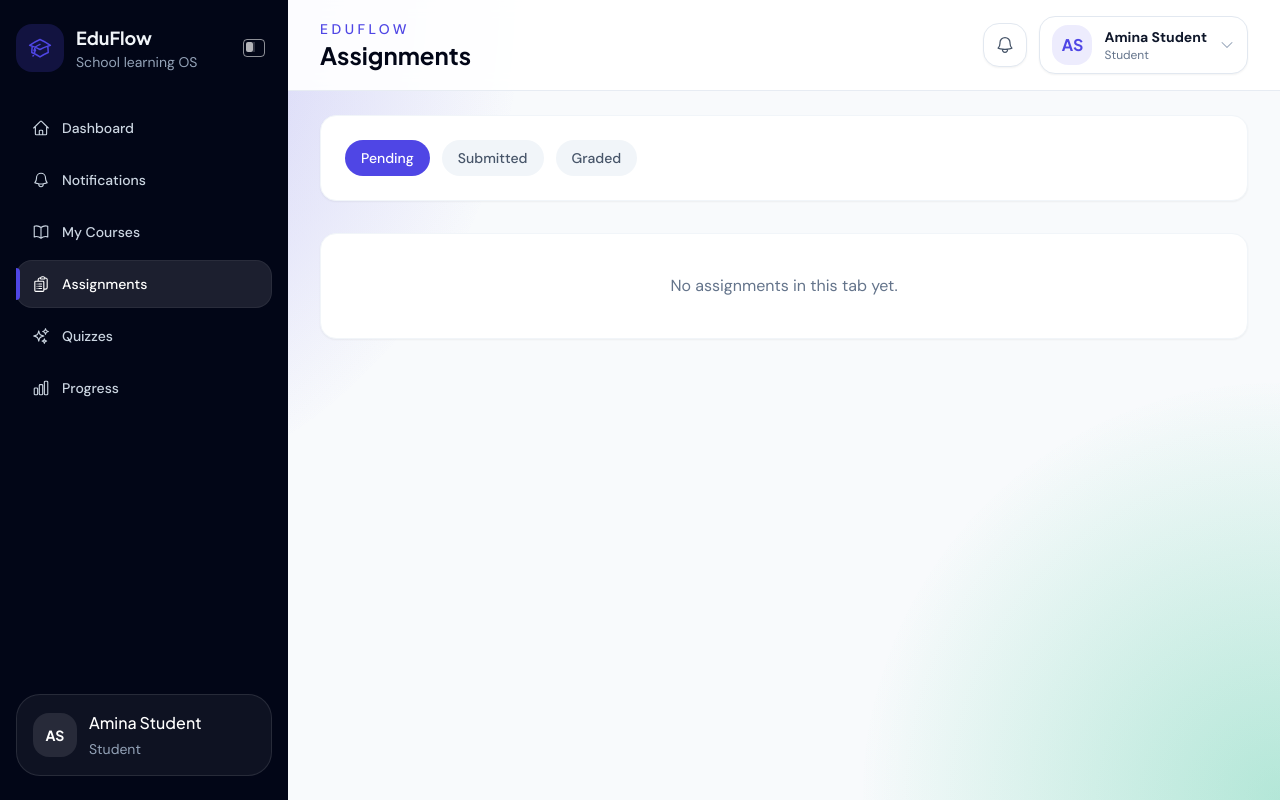
Assignments UI › graded tab shows score and feedback
Click the button "Graded" at (596, 158), box [556,140,637,176]
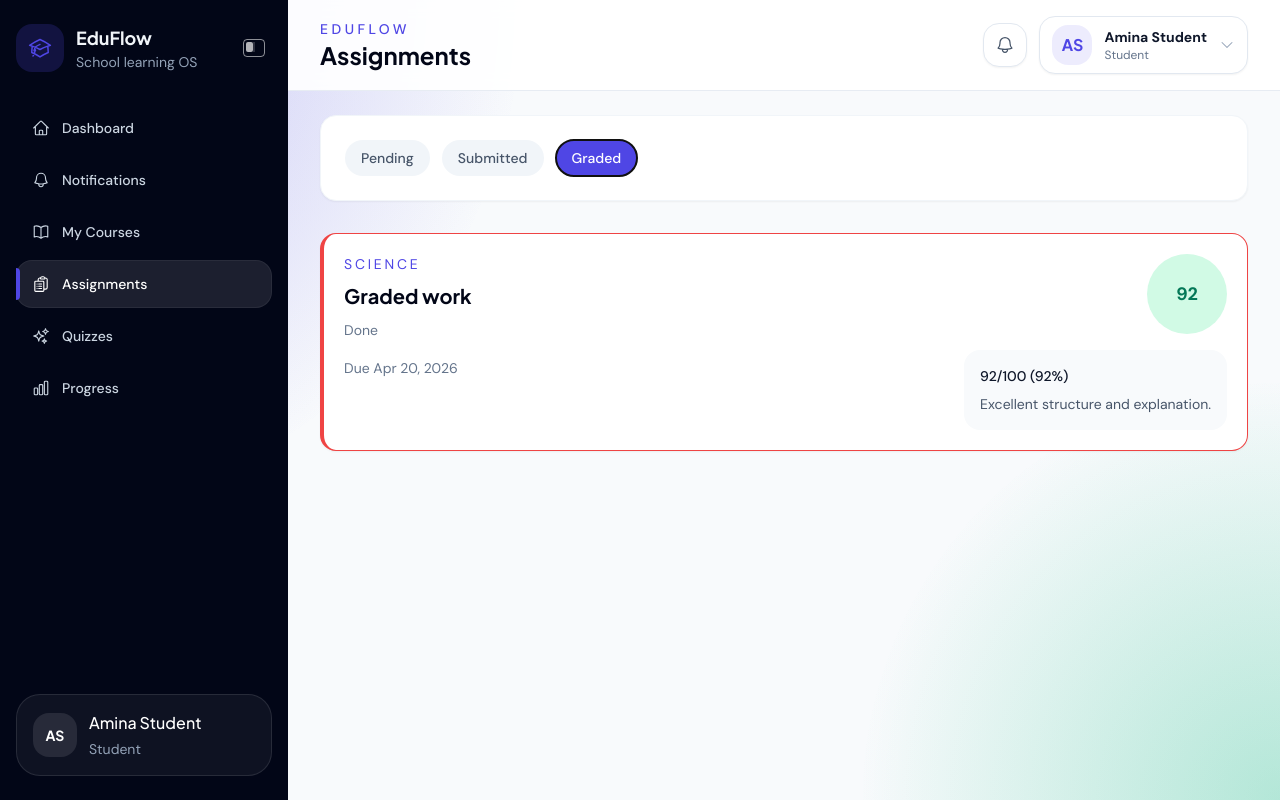
Check: the text with test id "graded-score" reads "92", box [1176,282,1198,306]
Check: the text "Excellent structure and explanation." is shown, box [980,394,1211,414]
